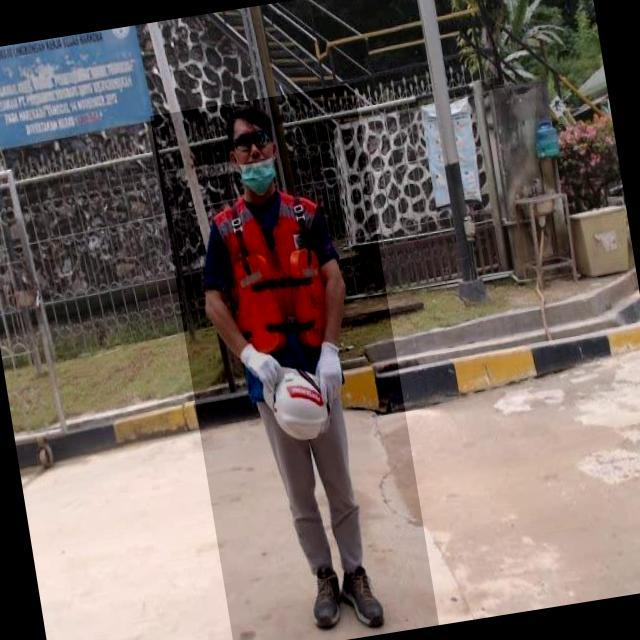Helmet: (255, 360, 336, 449)
Human: (150, 83, 439, 640)
Safety Boot: (340, 566, 388, 635), (308, 563, 349, 632)
Safety Vest: (209, 185, 349, 403)
